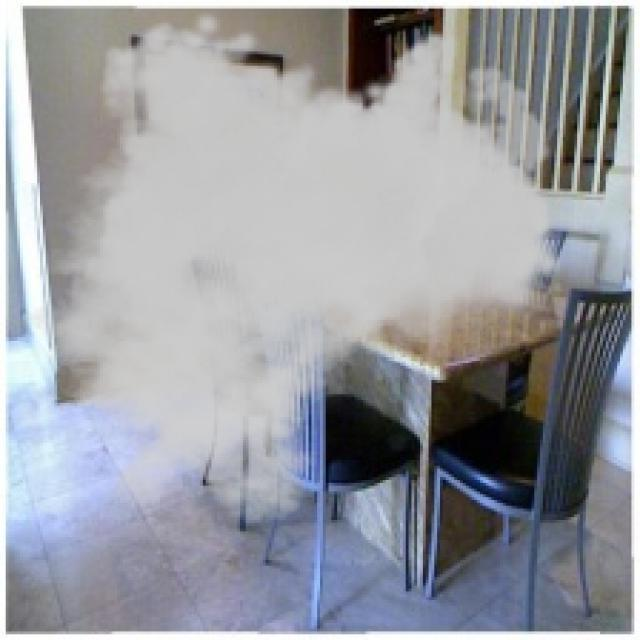Smoke: (3, 8, 566, 526)
